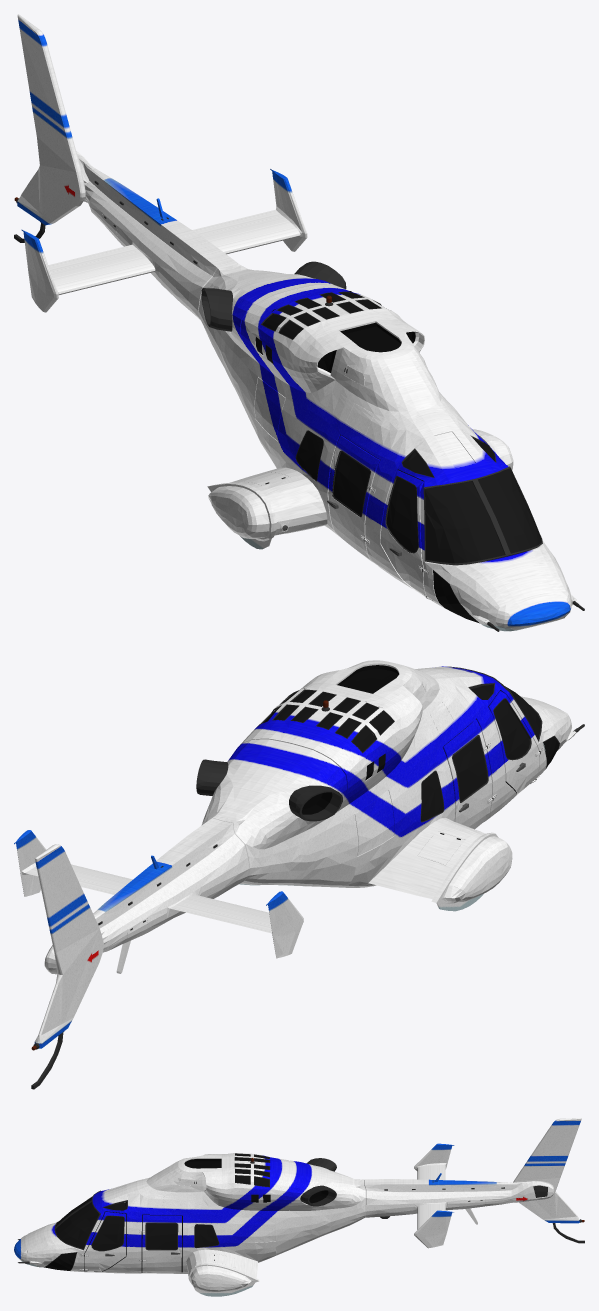
The model's file is fuselage.obj.
The picture shows the model from 3 angles, top to bottom: view 1: azimuth 30°, elevation 25°; view 2: azimuth 150°, elevation 25°; view 3: azimuth 270°, elevation 25°; orthographic projection. The views are drawn at different scales.
Visible parts, largest first — view 1: Bell222_FUSELAGE; view 2: Bell222_FUSELAGE; view 3: Bell222_FUSELAGE.
Boxes of the visible parts, x1=… form: Bell222_FUSELAGE: x1=14, y1=14, x2=584, y2=631; Bell222_FUSELAGE: x1=14, y1=660, x2=584, y2=1089; Bell222_FUSELAGE: x1=14, y1=1118, x2=584, y2=1296.
Size of the model in its own units: 7.36 by 6.91 by 24.71.
Materials: 14 (2 with a texture image).
